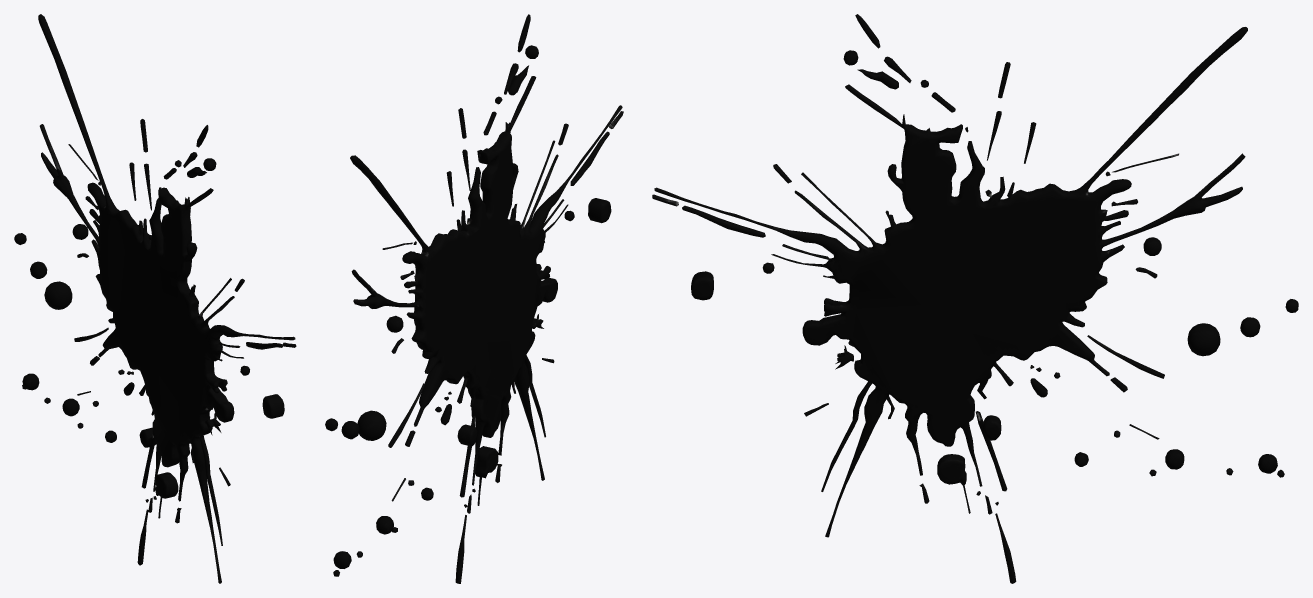
File: ink+splatter+3d+model.fbx
3 renders of one model, left to right at view 1: azimuth 30°, elevation 25°; view 2: azimuth 150°, elevation 25°; view 3: azimuth 270°, elevation 25°, orthographic. The views are drawn at different scales.
Parts seen in each view (by area): view 1: tripo_node_e92c85db; view 2: tripo_node_e92c85db; view 3: tripo_node_e92c85db.
Boxes of the visible parts, bbox=[...] form: tripo_node_e92c85db: bbox=[14, 14, 296, 583]; tripo_node_e92c85db: bbox=[325, 14, 623, 583]; tripo_node_e92c85db: bbox=[652, 14, 1298, 583].
Size of the model in its own units: 0.0491 by 0.9724 by 0.9998.
Materials: 1 (1 with a texture image).
